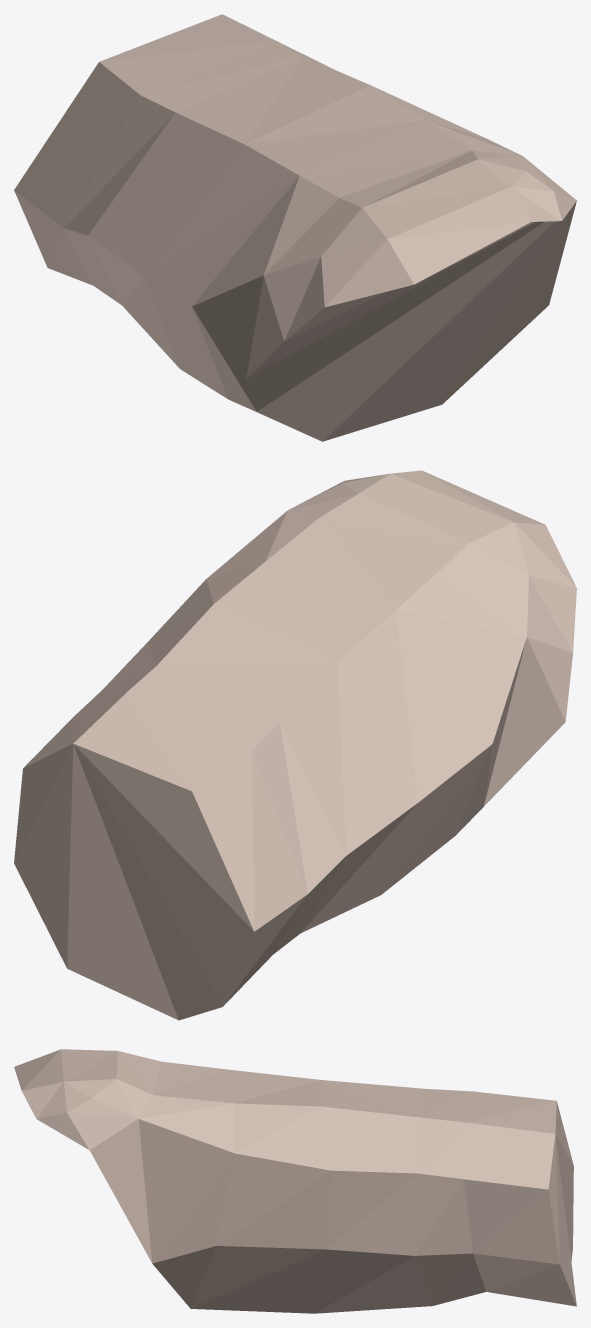
The model's file is LRing2ndPhalange.dae.
The picture shows the model from 3 angles, top to bottom: view 1: azimuth 30°, elevation 25°; view 2: azimuth 150°, elevation 25°; view 3: azimuth 270°, elevation 25°; orthographic projection. The views are drawn at different scales.
Visible parts, largest first — view 1: ShapeIndexedFaceSet; view 2: ShapeIndexedFaceSet; view 3: ShapeIndexedFaceSet.
Boxes of the visible parts, left/top/right/bottom form: ShapeIndexedFaceSet: left=14, top=14, right=576, bottom=441; ShapeIndexedFaceSet: left=14, top=470, right=576, bottom=1020; ShapeIndexedFaceSet: left=14, top=1049, right=576, bottom=1313.
Size of the model in its own units: 0.0175 by 0.0337 by 0.0163.
